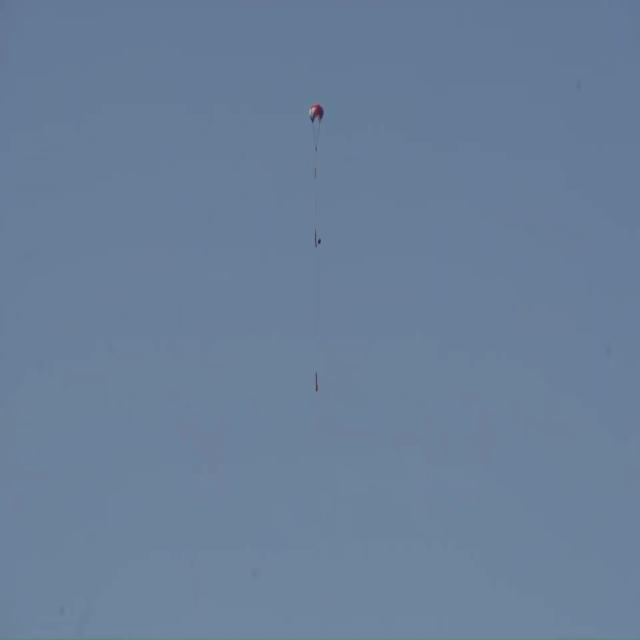Rocket: (315, 372, 319, 392)
